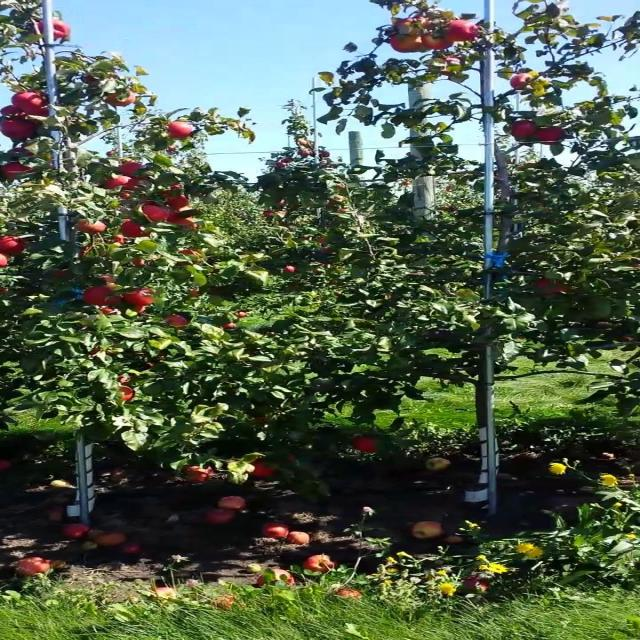apple: (84, 288, 121, 307), (6, 120, 37, 140), (447, 24, 480, 42), (42, 20, 71, 39), (184, 464, 213, 483), (248, 460, 277, 478), (390, 36, 421, 52), (13, 92, 44, 108), (141, 204, 169, 221), (120, 220, 148, 237), (106, 176, 140, 190), (106, 92, 135, 108), (540, 280, 569, 296), (6, 236, 28, 256), (426, 36, 455, 51), (511, 124, 537, 140), (77, 220, 107, 233), (6, 164, 32, 179), (355, 436, 379, 452), (127, 292, 156, 305), (397, 20, 434, 30), (540, 128, 564, 143), (170, 124, 192, 140), (170, 196, 192, 209), (120, 164, 142, 176), (511, 76, 532, 88), (6, 108, 30, 118), (170, 216, 196, 225), (163, 184, 180, 197), (170, 316, 190, 327), (13, 148, 34, 158), (28, 108, 50, 117), (120, 388, 135, 400), (99, 276, 116, 284), (6, 108, 21, 116), (120, 192, 135, 200), (113, 236, 128, 244), (120, 376, 135, 383), (84, 76, 96, 84), (56, 272, 69, 277), (134, 308, 146, 313)
